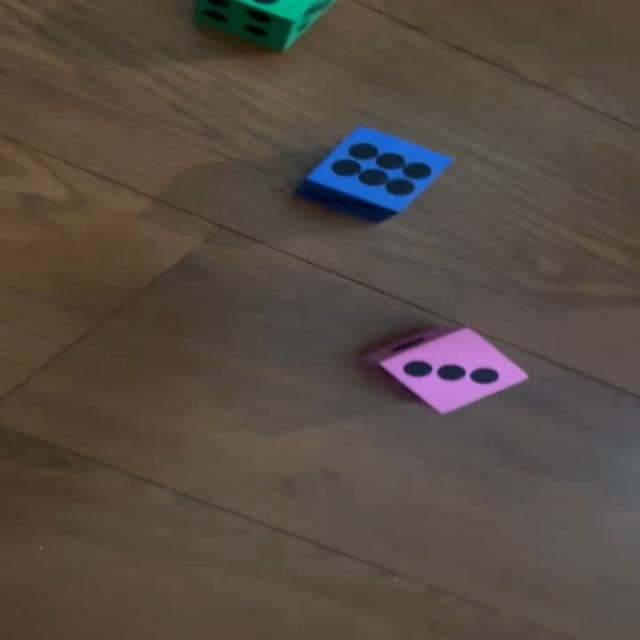blue_block: (299, 128, 457, 219)
